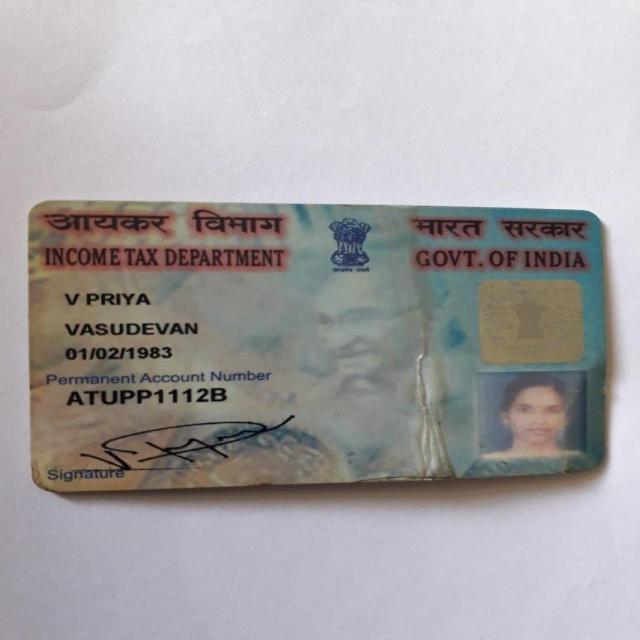pan_card: (24, 201, 612, 490)
